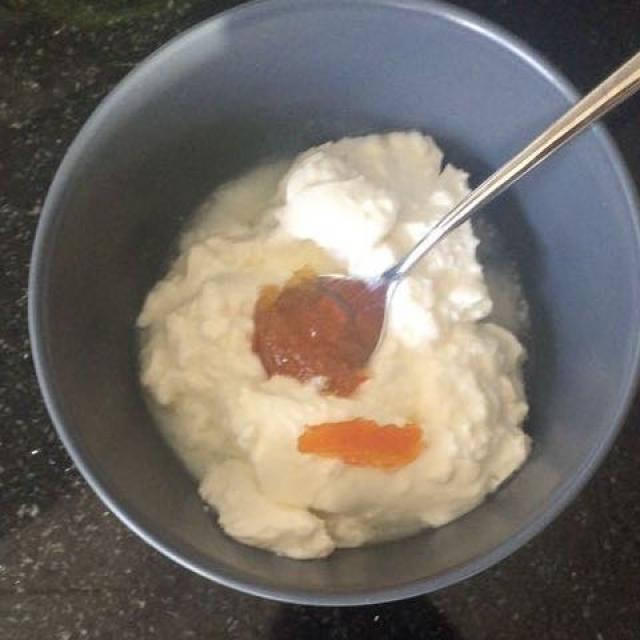jam: (236, 274, 430, 464)
yogurt: (134, 128, 549, 559)
